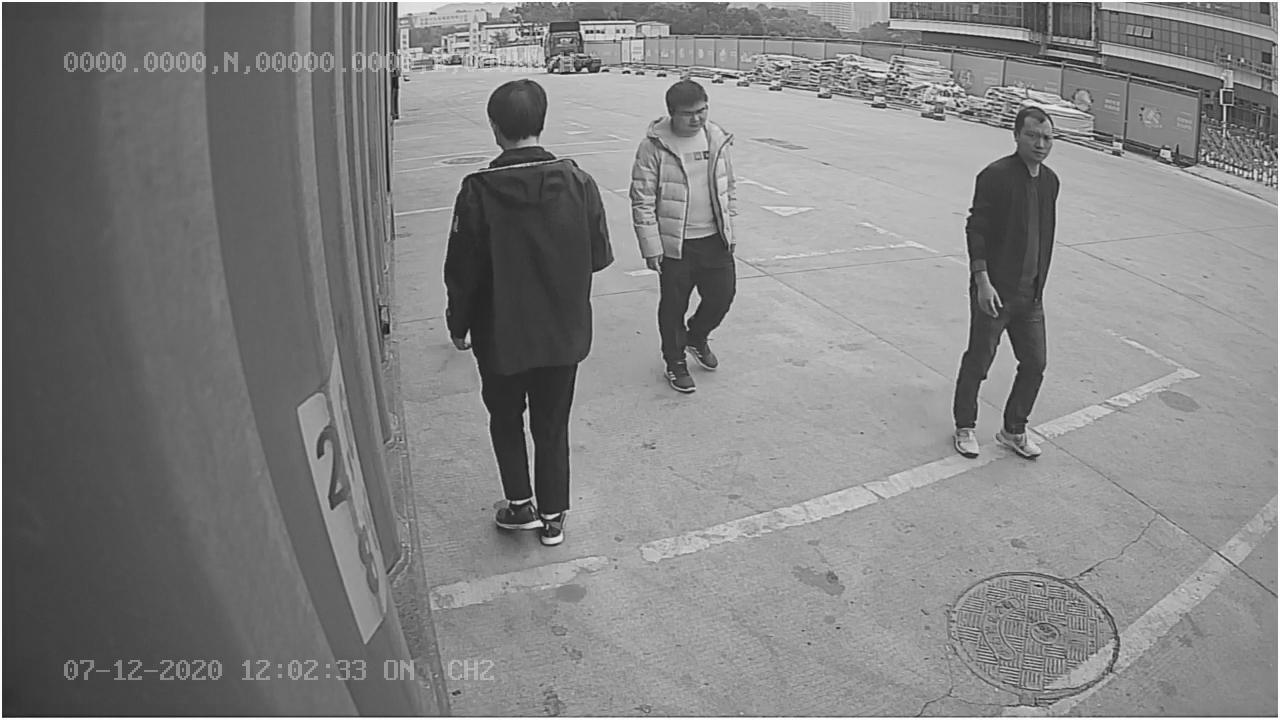person: (442, 75, 616, 556), (941, 96, 1065, 460), (631, 73, 743, 391)
